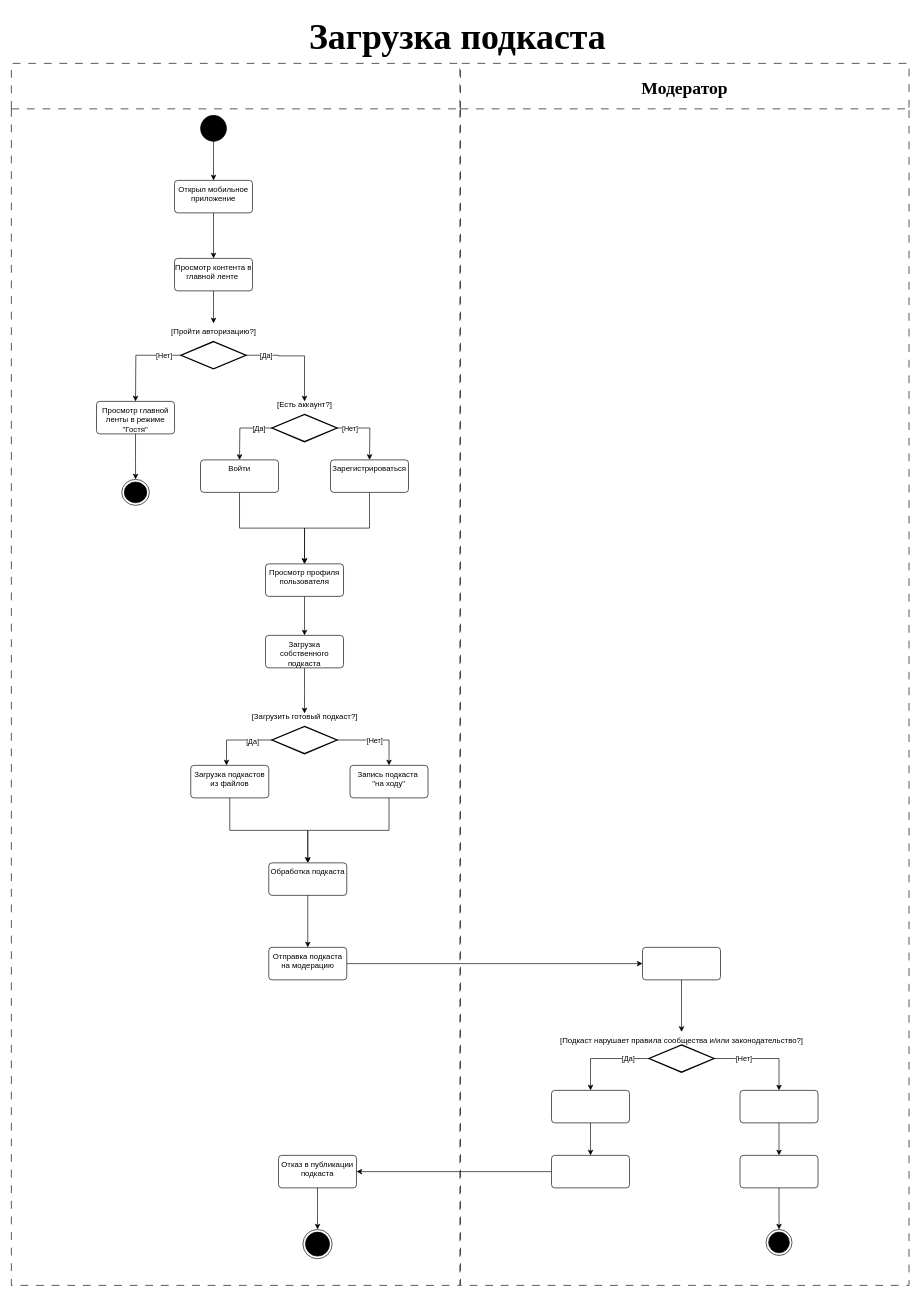
The diagram is 920 pixels wide and 1297 high, and some of its shapes have lost their labels. Each missing label, with the centre of its shape:
Модерация подкаста: the point at 681,963
Одобрение модерации: the point at 778,1106
Отправка результатов модерации: the point at 590,1171
Пользователь: the point at 235,674
Публикация подкаста в общий доступ: the point at 778,1171
Удаление подкаста: the point at 590,1106
